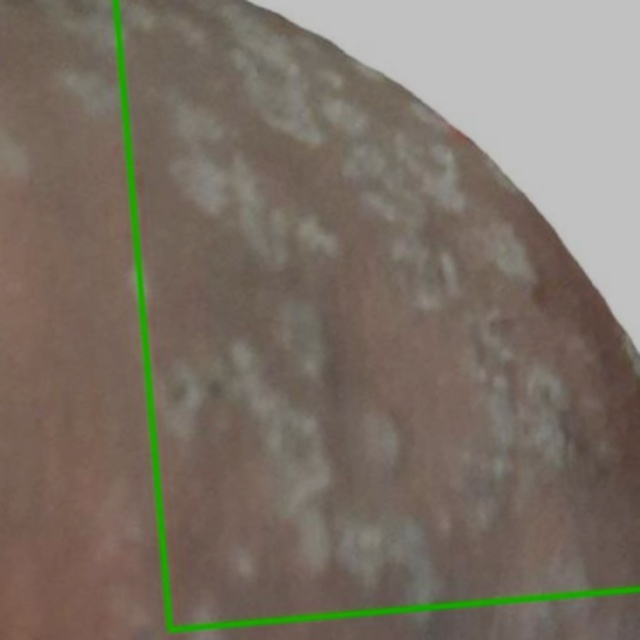Tinea Corporis: (116, 0, 639, 629)
